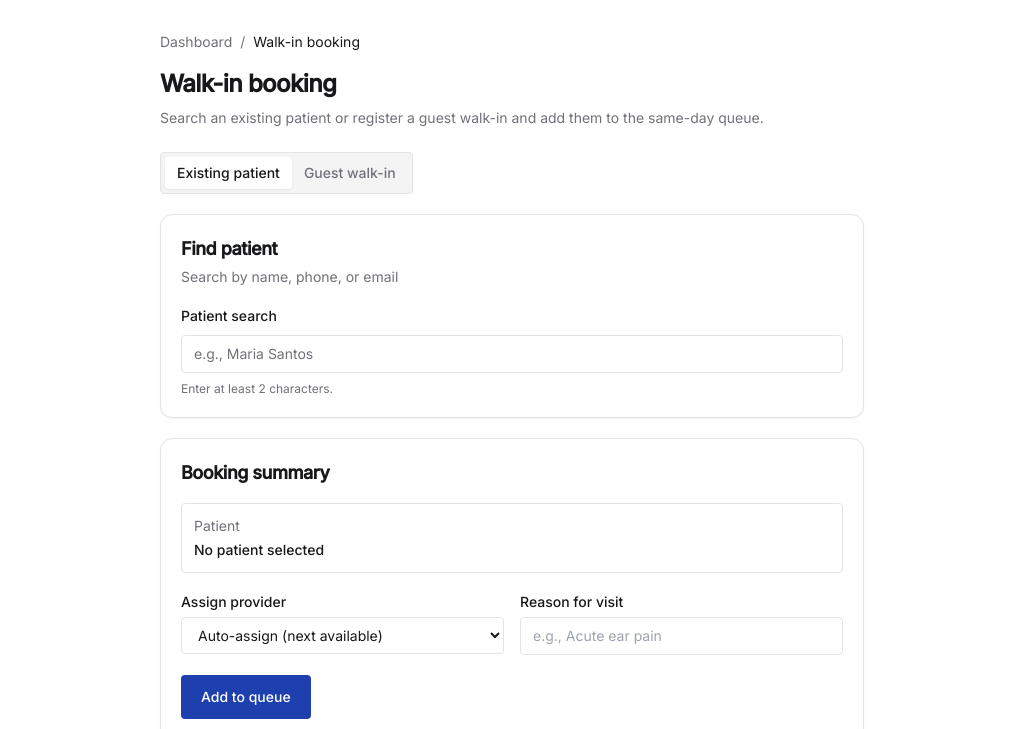
WalkInBookingPage › submits guest walk-in with minimal required info
Click the button "Guest walk-in".
click(350, 173)  # box [292, 157, 408, 189]
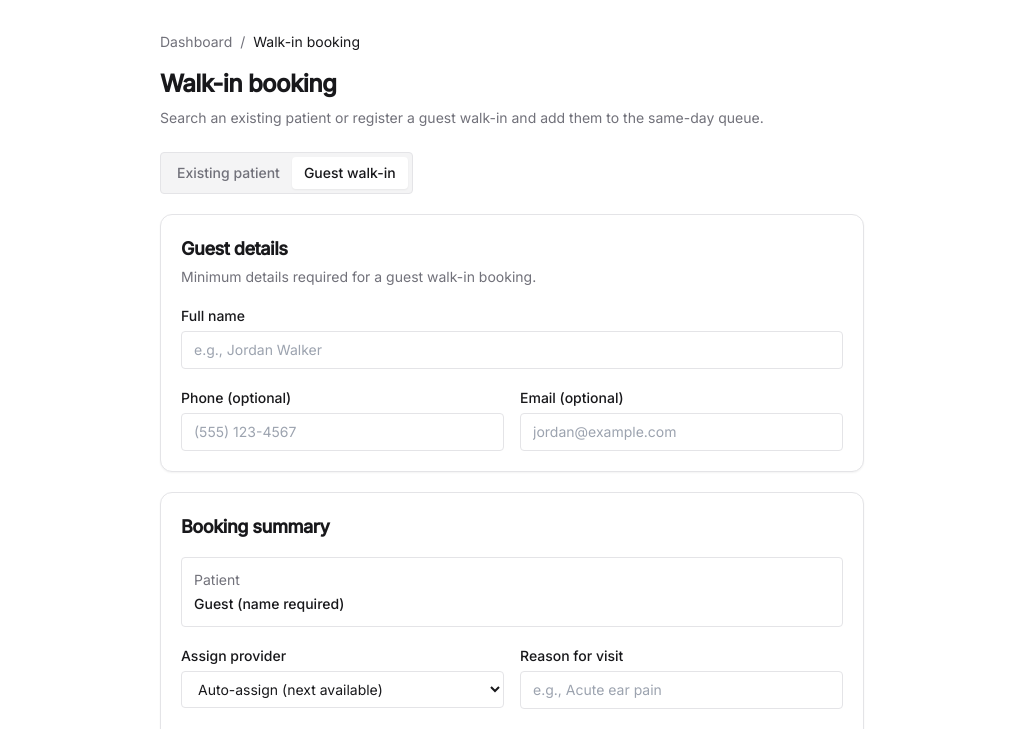
Type "Jordan Walker" into the field labelled "Full name".
click(512, 350); type("Jordan Walker")  # box [181, 331, 843, 369]
(page scrolled)
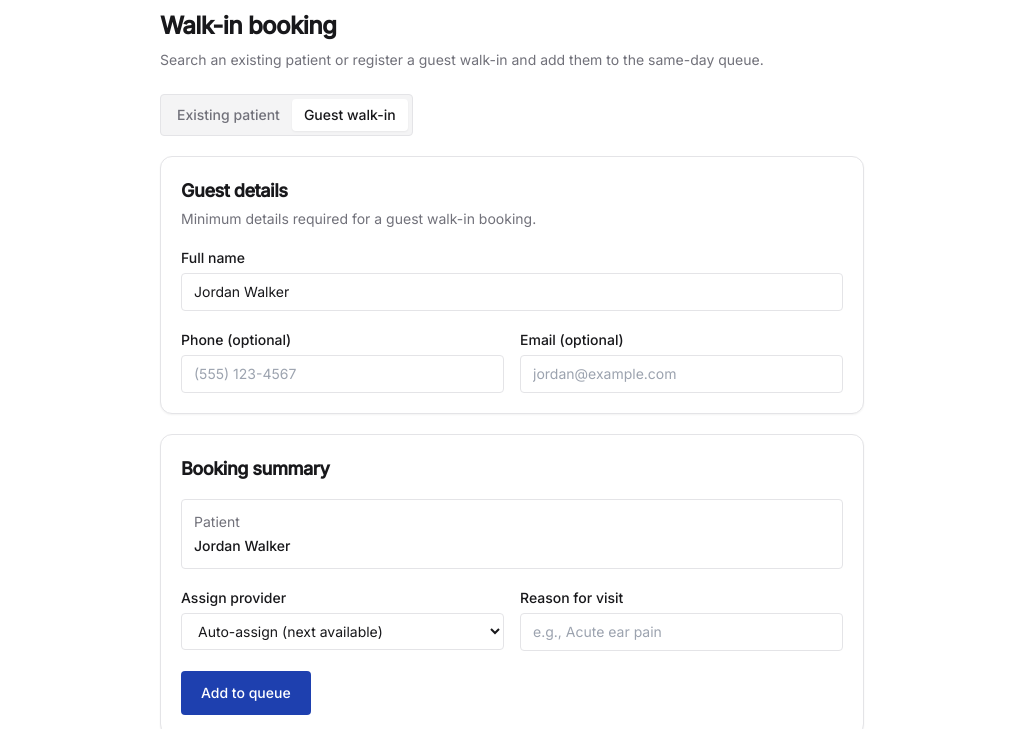
Click the button "Add to queue".
click(246, 693)  # box [181, 671, 311, 715]
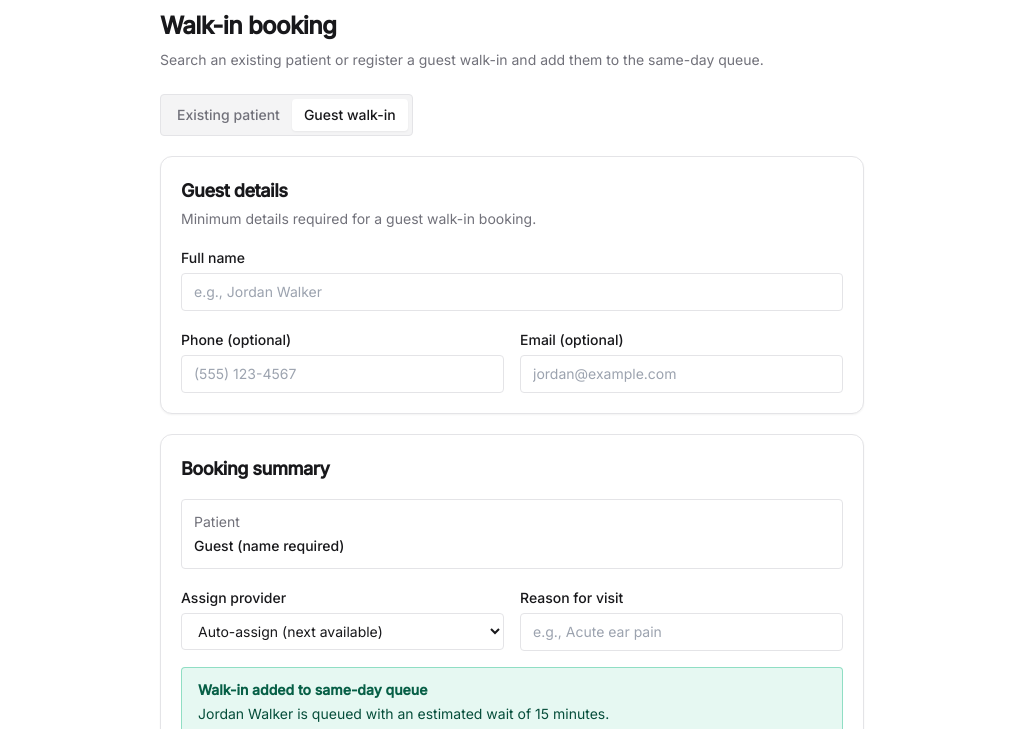
Expected: the text "Walk-in added to same-day queue" is shown, [198, 681, 428, 698]
